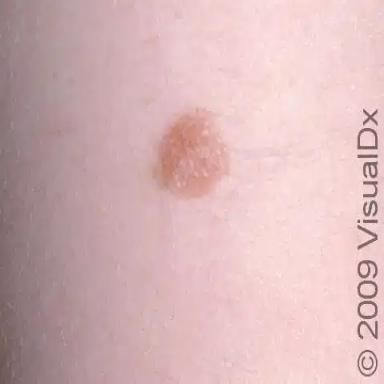nevus: (157, 108, 229, 197)
